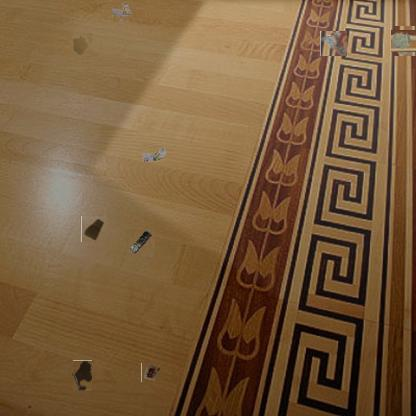dirty: (126, 229, 154, 257), (320, 30, 347, 56), (81, 217, 106, 242), (392, 28, 416, 54), (140, 144, 166, 162), (142, 362, 162, 383), (113, 2, 131, 21)
liquid: (72, 360, 92, 391), (74, 33, 94, 55)
